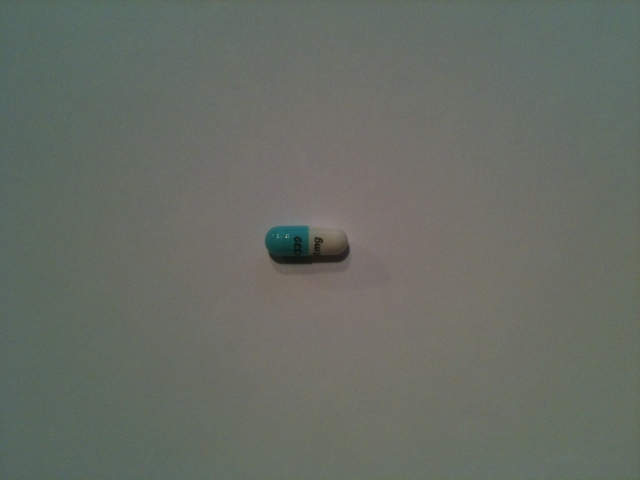capsule: (264, 224, 350, 264)
